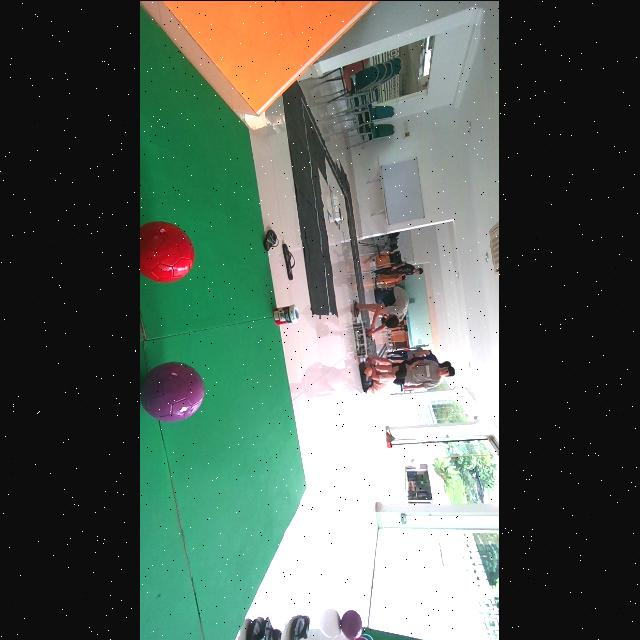P: (140, 363, 204, 421)
R: (140, 220, 195, 282)
